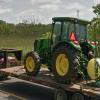Tractor: (23, 13, 100, 85)
